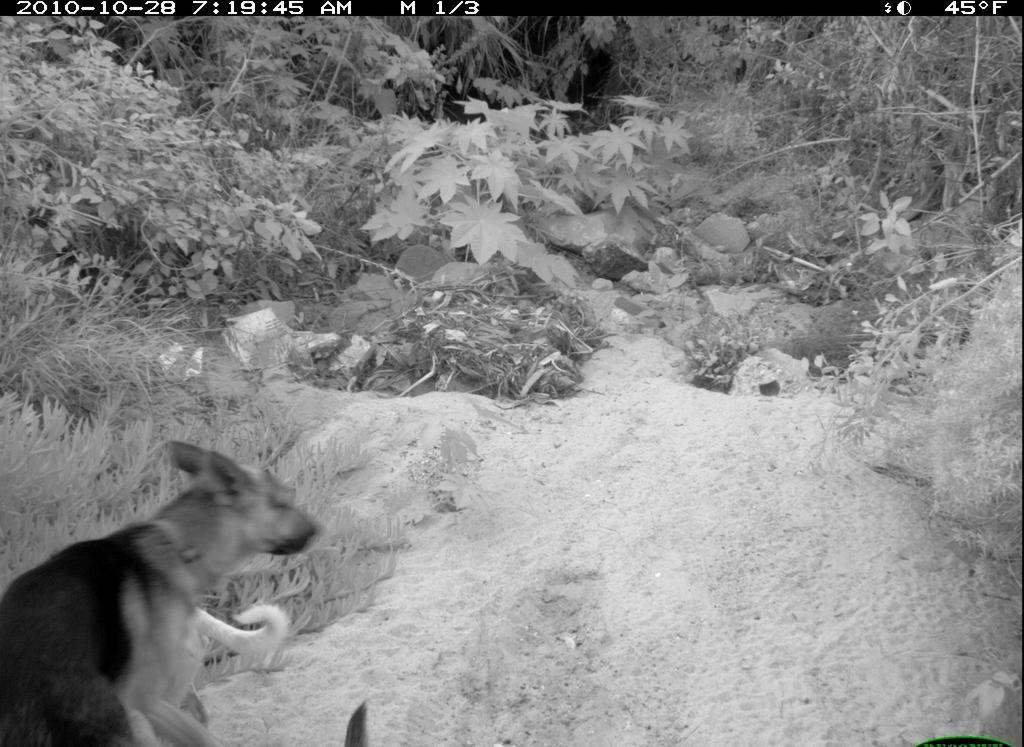dog: (2, 398, 347, 745)
